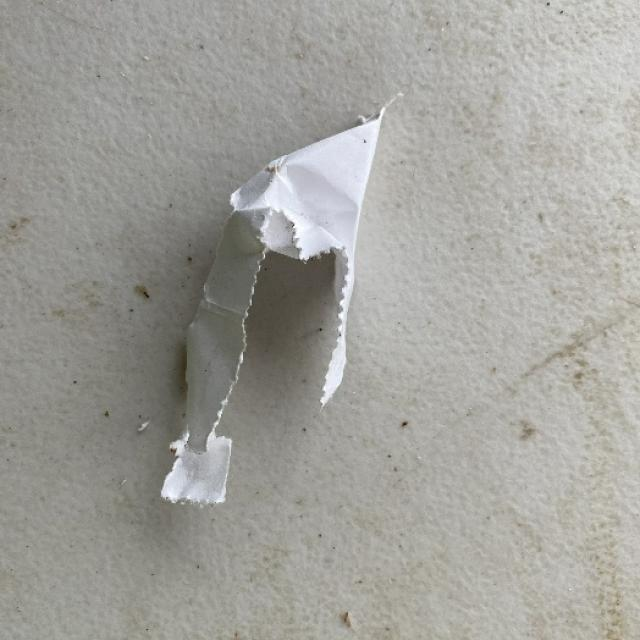paper: (159, 104, 385, 504)
